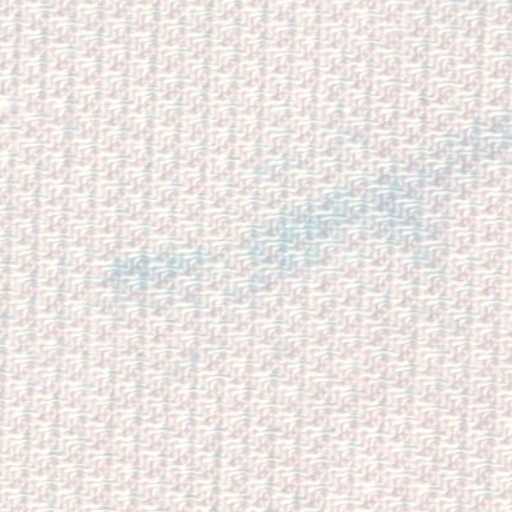WuZi: (97, 90, 504, 358)
